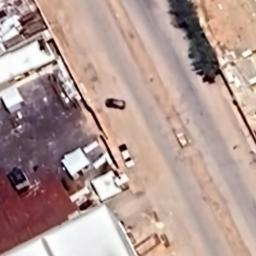SUV: (120, 149, 136, 169)
sedan: (104, 98, 126, 110)
